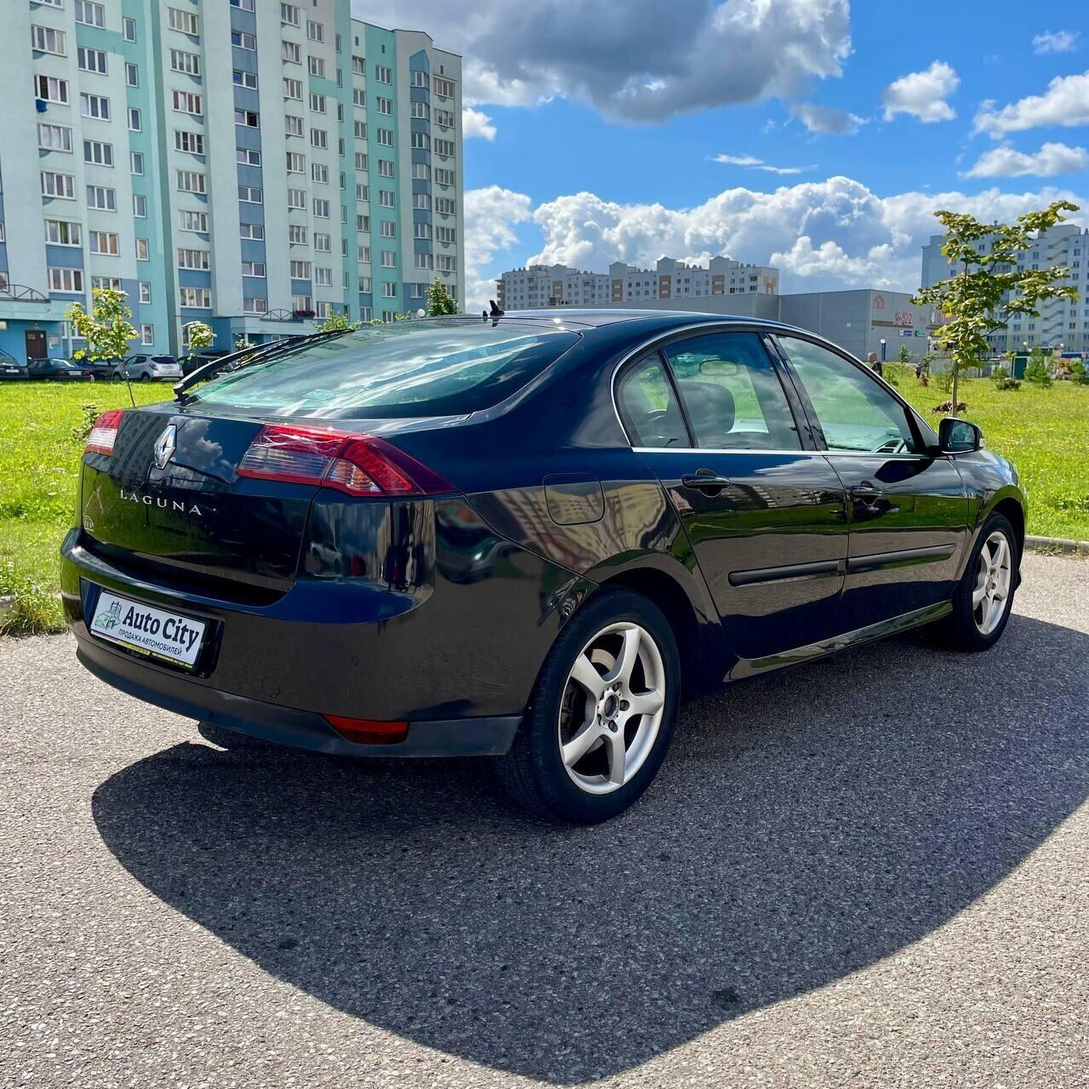Laguna_2010-2015: (52, 303, 1029, 827)
